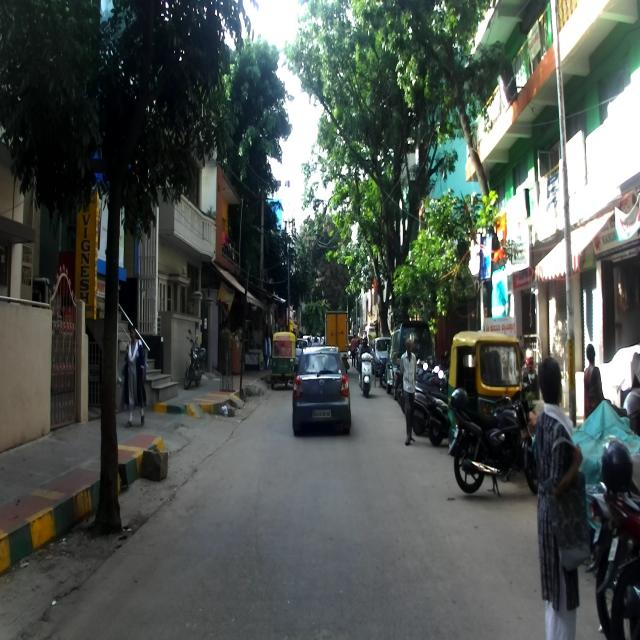autorickshaw: (448, 331, 522, 455)
car: (290, 346, 353, 436)
motorcycle: (447, 387, 542, 496)
